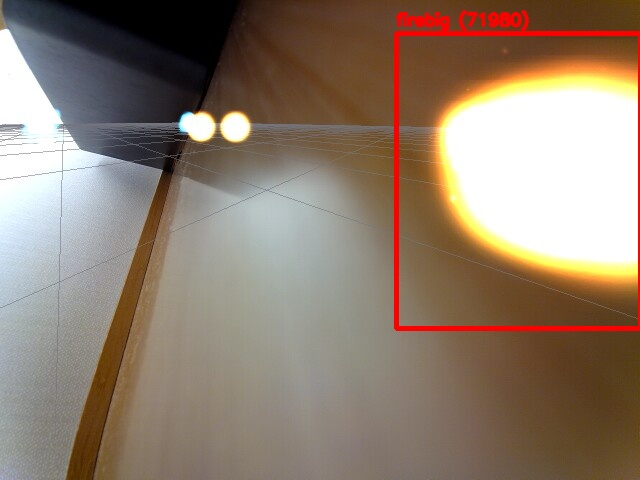firebig: (396, 33, 640, 328)
